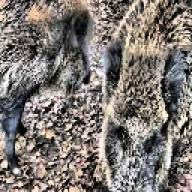boar: (97, 0, 192, 192), (0, 0, 92, 176)
